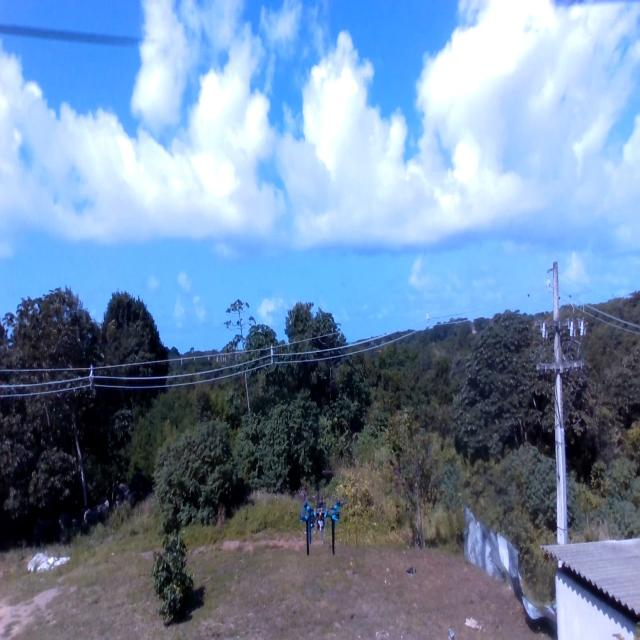-uav-: (300, 493, 351, 569)
